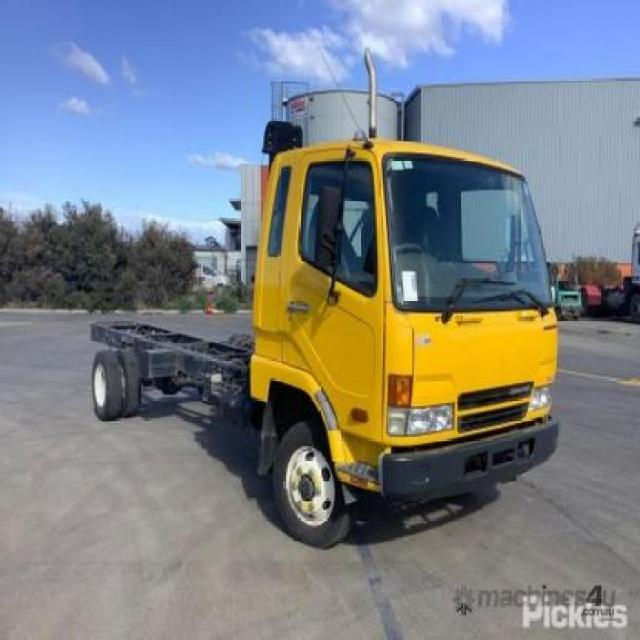truck: (86, 138, 561, 547)
